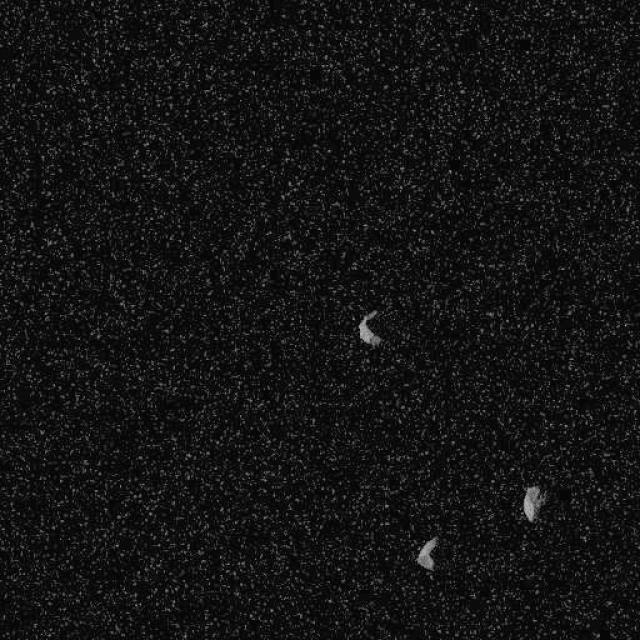D2: (357, 308, 382, 348), (521, 484, 545, 521), (414, 535, 438, 571)
